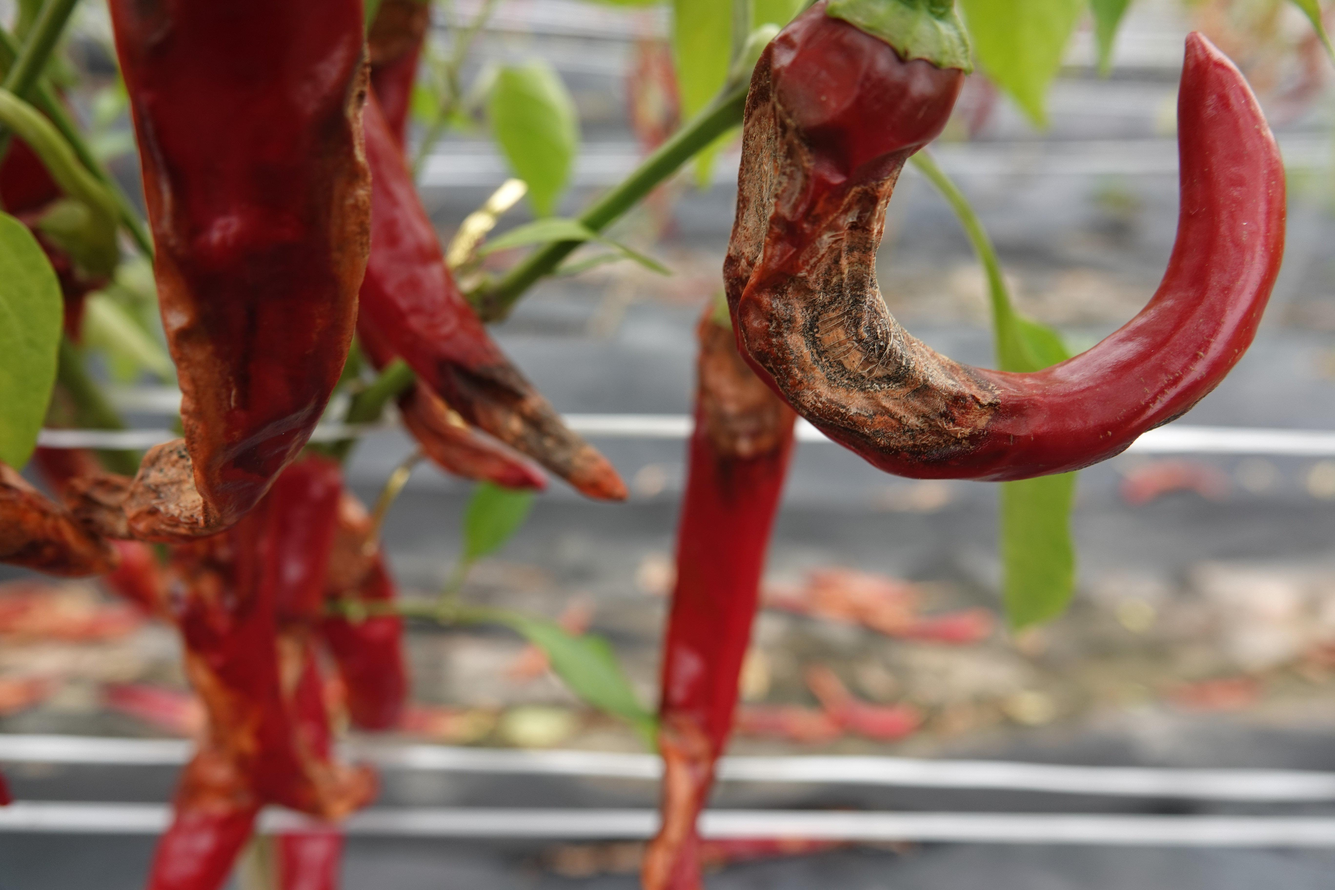Busuk Buah Antraknosa: (720, 1, 1288, 485), (93, 0, 384, 527), (644, 279, 807, 890)
